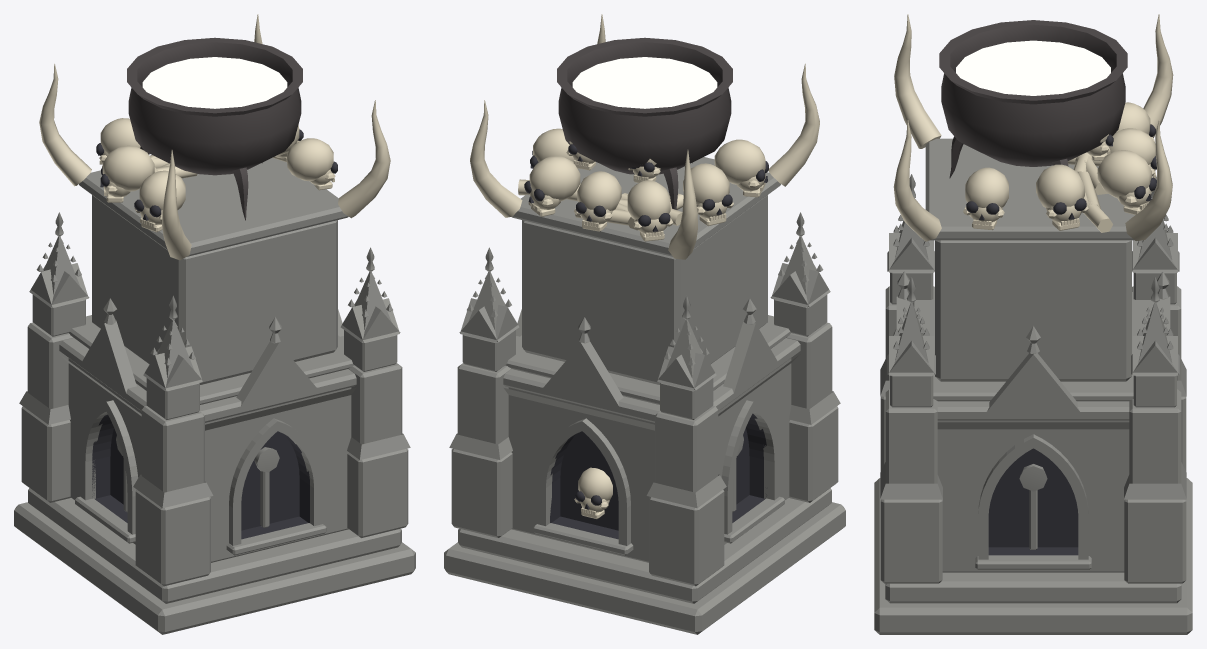
Rendered from tower_altar_3.glb.
3 views of the same model, side by side, from view 1: azimuth 30°, elevation 25°; view 2: azimuth 150°, elevation 25°; view 3: azimuth 270°, elevation 25° (orthographic). The views are drawn at different scales.
Parts seen in each view (by area): view 1: tower; view 2: tower; view 3: tower.
Part boxes in pixels (x1,y1,x2,y2): tower: (14, 14, 415, 634); tower: (444, 14, 845, 634); tower: (874, 14, 1192, 634).
Bounding box in the file's own units: 1.7 × 3 × 1.7.
